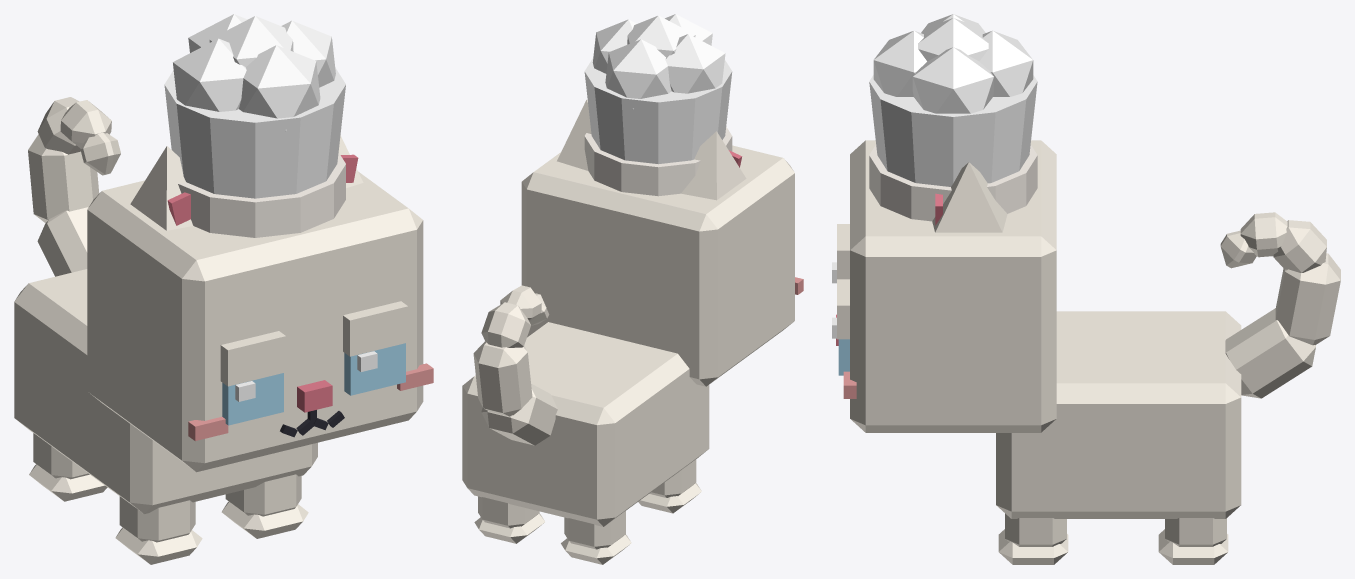
File: CatCafe_Cat_CafeGhost.glb
The picture shows the model from 3 angles, left to right: view 1: azimuth 30°, elevation 25°; view 2: azimuth 150°, elevation 25°; view 3: azimuth 270°, elevation 25°; orthographic projection. The views are drawn at different scales.
Parts seen in each view (by area): view 1: CatCafe_Cat_CafeGhost_Head, CatCafe_Cat_CafeGhost_Prop, CatCafe_Cat_CafeGhost_Body, CatCafe_Cat_CafeGhost_Tail, CatCafe_Cat_CafeGhost_Eye2, CatCafe_Cat_CafeGhost_Eye1, CatCafe_Cat_CafeGhost_LegF2, CatCafe_Cat_CafeGhost_LegF1, CatCafe_Cat_CafeGhost_EarR, CatCafe_Cat_CafeGhost_LegB2, CatCafe_Cat_CafeGhost_EarL; view 2: CatCafe_Cat_CafeGhost_Head, CatCafe_Cat_CafeGhost_Body, CatCafe_Cat_CafeGhost_Prop, CatCafe_Cat_CafeGhost_Tail, CatCafe_Cat_CafeGhost_EarR, CatCafe_Cat_CafeGhost_LegB2, CatCafe_Cat_CafeGhost_LegB1, CatCafe_Cat_CafeGhost_LegF2, CatCafe_Cat_CafeGhost_EarL; view 3: CatCafe_Cat_CafeGhost_Head, CatCafe_Cat_CafeGhost_Body, CatCafe_Cat_CafeGhost_Prop, CatCafe_Cat_CafeGhost_Tail, CatCafe_Cat_CafeGhost_EarL, CatCafe_Cat_CafeGhost_LegF1, CatCafe_Cat_CafeGhost_LegB1, CatCafe_Cat_CafeGhost_Eye1, CatCafe_Cat_CafeGhost_Eye2.
Part boxes in pixels (left/top/right/bottom): CatCafe_Cat_CafeGhost_Head: left=87, top=171, right=433, bottom=472; CatCafe_Cat_CafeGhost_Prop: left=164, top=14, right=345, bottom=237; CatCafe_Cat_CafeGhost_Body: left=14, top=269, right=317, bottom=513; CatCafe_Cat_CafeGhost_Tail: left=28, top=97, right=120, bottom=276; CatCafe_Cat_CafeGhost_Eye2: left=220, top=331, right=286, bottom=425; CatCafe_Cat_CafeGhost_Eye1: left=343, top=301, right=408, bottom=395; CatCafe_Cat_CafeGhost_LegF2: left=115, top=496, right=202, bottom=564; CatCafe_Cat_CafeGhost_LegF1: left=221, top=474, right=308, bottom=538; CatCafe_Cat_CafeGhost_EarR: left=130, top=146, right=193, bottom=230; CatCafe_Cat_CafeGhost_LegB2: left=29, top=433, right=107, bottom=501; CatCafe_Cat_CafeGhost_EarL: left=338, top=135, right=363, bottom=187; CatCafe_Cat_CafeGhost_Head: left=521, top=145, right=803, bottom=386; CatCafe_Cat_CafeGhost_Body: left=462, top=322, right=709, bottom=526; CatCafe_Cat_CafeGhost_Prop: left=584, top=14, right=732, bottom=196; CatCafe_Cat_CafeGhost_Tail: left=473, top=285, right=557, bottom=445; CatCafe_Cat_CafeGhost_EarR: left=681, top=131, right=746, bottom=200; CatCafe_Cat_CafeGhost_LegB2: left=561, top=511, right=631, bottom=564; CatCafe_Cat_CafeGhost_LegB1: left=474, top=496, right=544, bottom=543; CatCafe_Cat_CafeGhost_LegF2: left=638, top=459, right=701, bottom=513; CatCafe_Cat_CafeGhost_EarL: left=557, top=99, right=591, bottom=170; CatCafe_Cat_CafeGhost_Head: left=836, top=140, right=1056, bottom=432; CatCafe_Cat_CafeGhost_Body: left=996, top=311, right=1241, bottom=518; CatCafe_Cat_CafeGhost_Prop: left=869, top=14, right=1037, bottom=221; CatCafe_Cat_CafeGhost_Tail: left=1220, top=212, right=1340, bottom=398; CatCafe_Cat_CafeGhost_EarL: left=932, top=162, right=1007, bottom=232; CatCafe_Cat_CafeGhost_LegF1: left=998, top=513, right=1068, bottom=564; CatCafe_Cat_CafeGhost_LegB1: left=1158, top=518, right=1228, bottom=564; CatCafe_Cat_CafeGhost_Eye1: left=832, top=279, right=849, bottom=375; CatCafe_Cat_CafeGhost_Eye2: left=832, top=224, right=849, bottom=283.
Size of the model in its own units: 1 by 2.2 by 1.97.
Materials: 1 (1 with a texture image).
